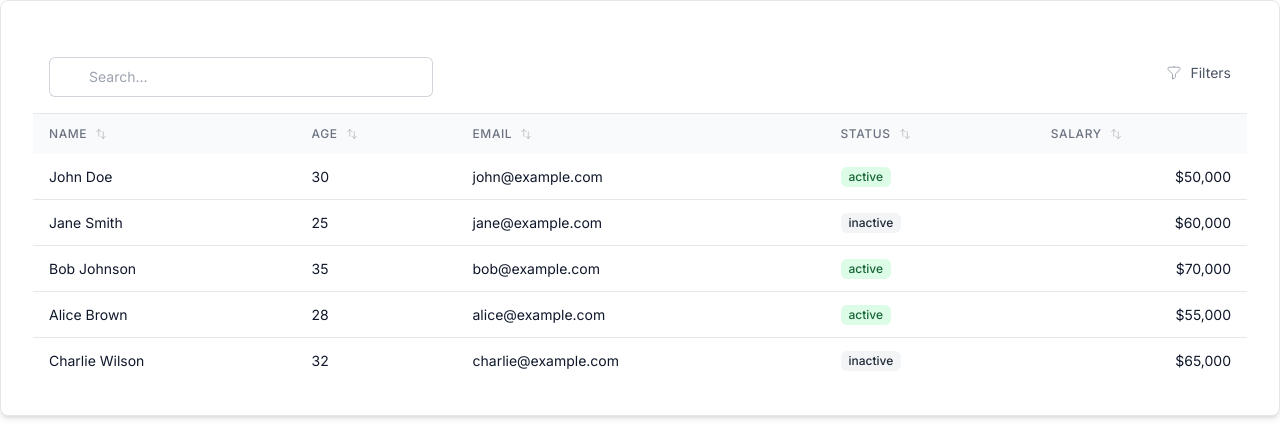
Test: DataTable Component › Search and Filter › filters data based on search term
Type "John" into the field with placeholder "Search..." at x=241, y=77, box [49,57,433,97]
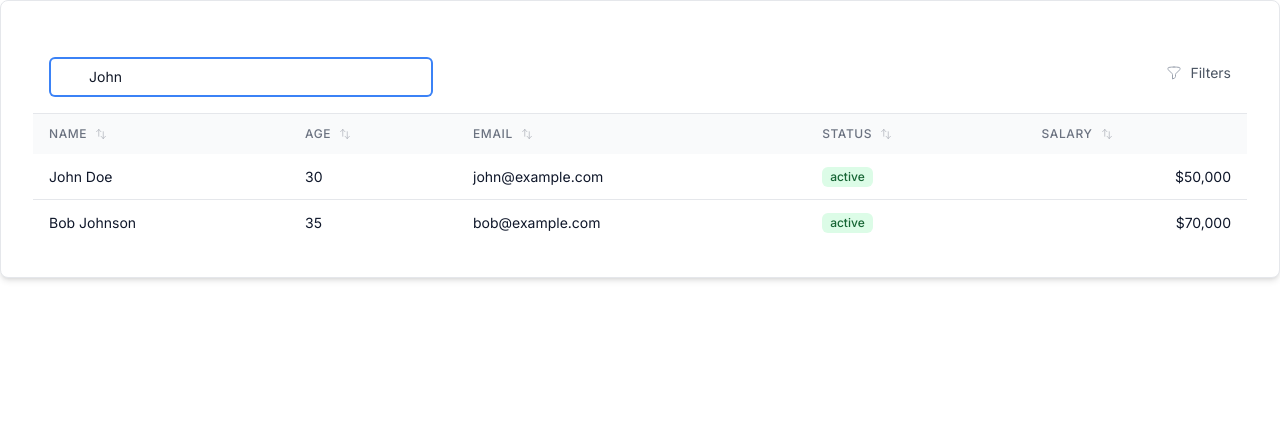
Expected: the text "John Doe" is shown, [33,154,289,200]
Now the text "Jane Smith" is gone
